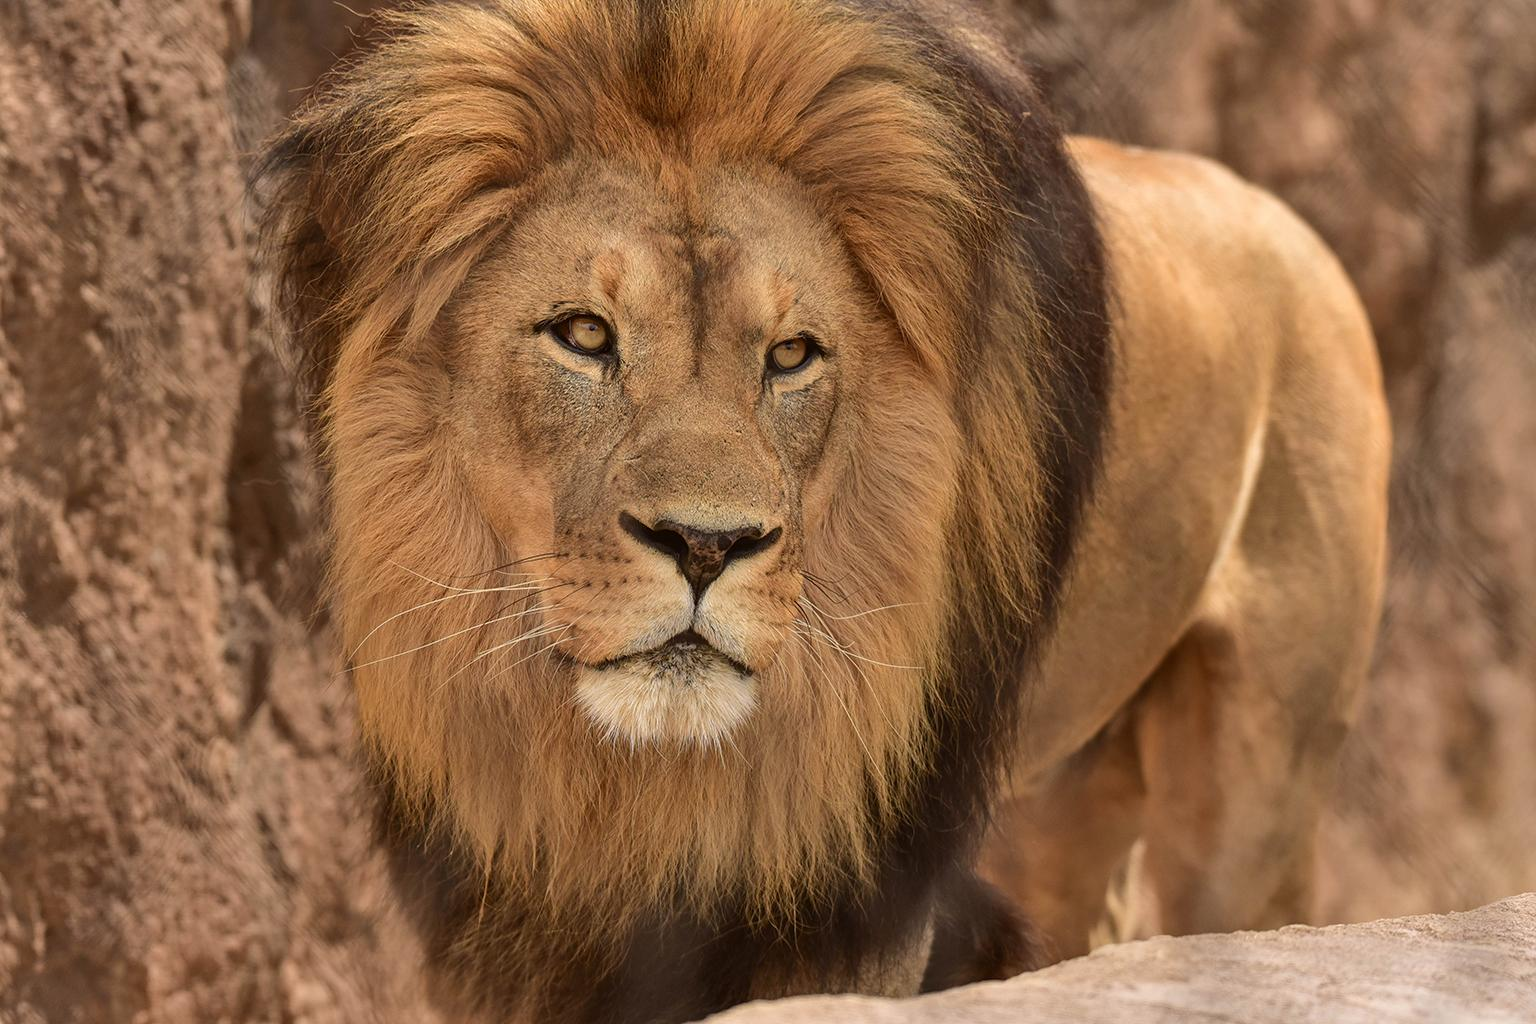lions: (133, 0, 1536, 1024)
